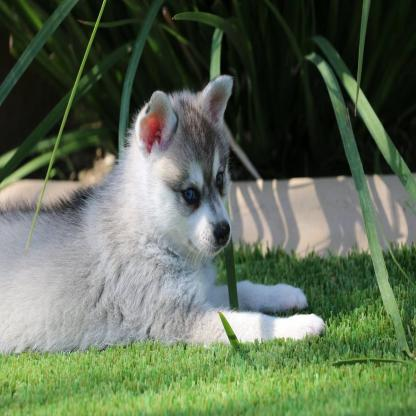husky: (0, 64, 324, 356)
